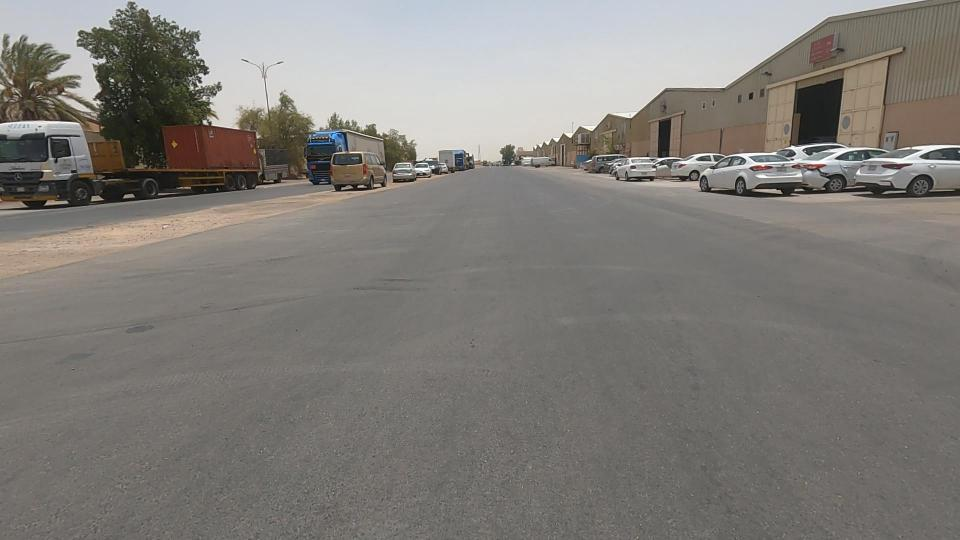CLUTTER_SIDEWALK: (2, 197, 245, 273), (151, 172, 378, 251)
